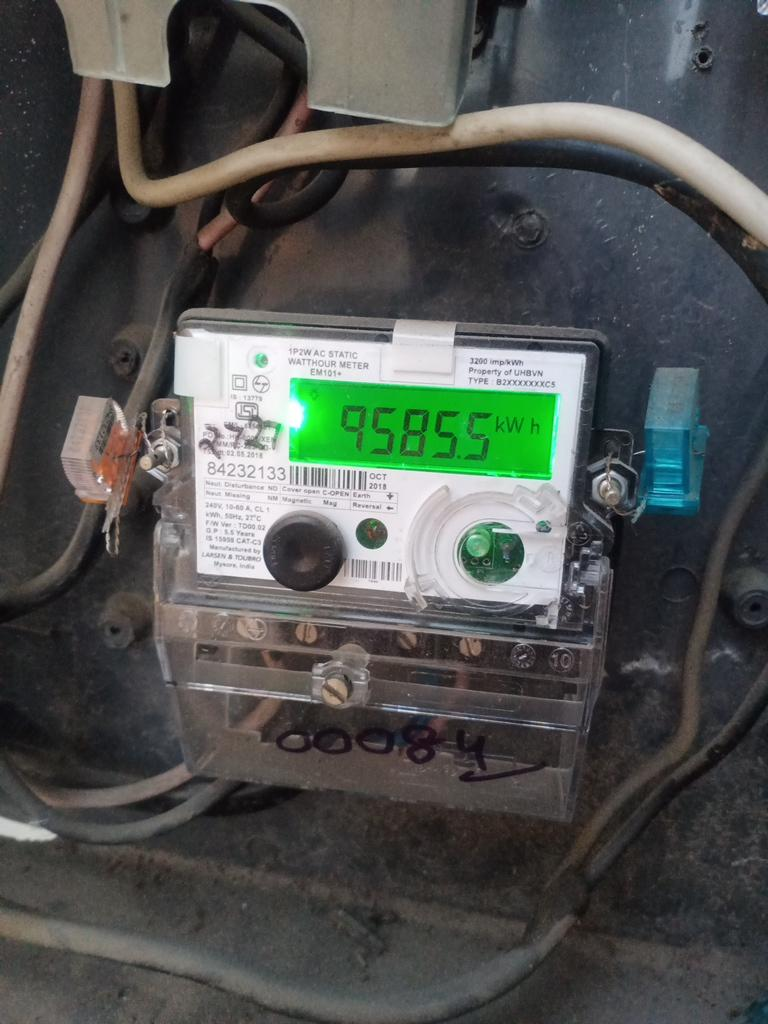.: (495, 414, 547, 439)
0: (455, 451, 464, 462)
6: (462, 411, 491, 462), (370, 406, 396, 460), (432, 410, 457, 463)
9: (401, 408, 432, 461)
object: (337, 403, 368, 455)
